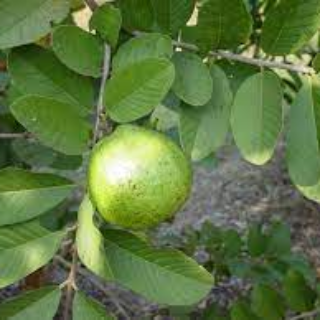oi: (81, 122, 203, 237)
